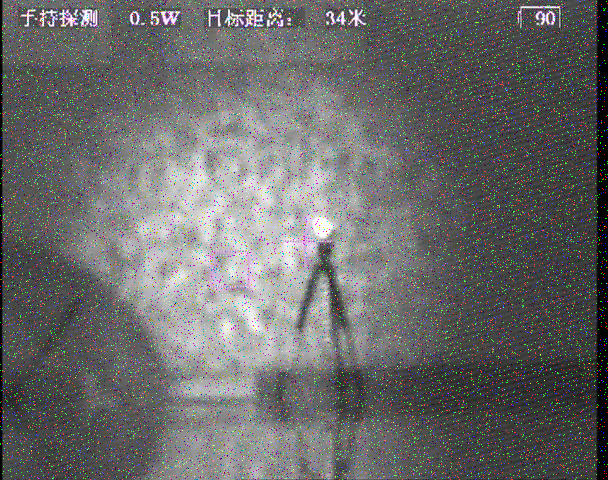my: (310, 212, 334, 240)
